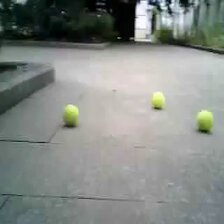tennis: (196, 110, 213, 132), (63, 104, 79, 124), (150, 90, 165, 108)
